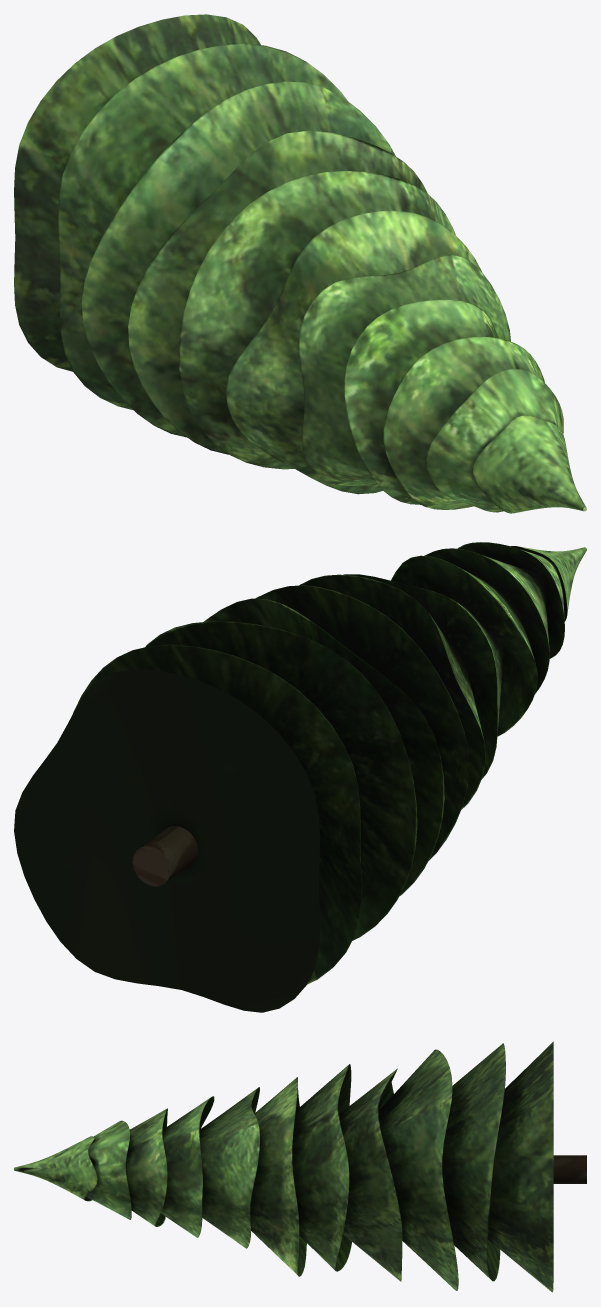
The model's file is drvo.obj.
3 views of the same model, one above another, from view 1: azimuth 30°, elevation 25°; view 2: azimuth 150°, elevation 25°; view 3: azimuth 270°, elevation 25° (orthographic). The views are drawn at different scales.
Visible parts, largest first — view 1: 10447_Pine_Tree_v1_SG; view 2: 10447_Pine_Tree_v1_SG; view 3: 10447_Pine_Tree_v1_SG.
Part boxes in pixels (x1,y1,x2,y2): 10447_Pine_Tree_v1_SG: (14,14,586,513); 10447_Pine_Tree_v1_SG: (14,542,586,1012); 10447_Pine_Tree_v1_SG: (14,1041,586,1292).
Size of the model in its own units: 206 by 208 by 478.
1 material, 1 textured.
